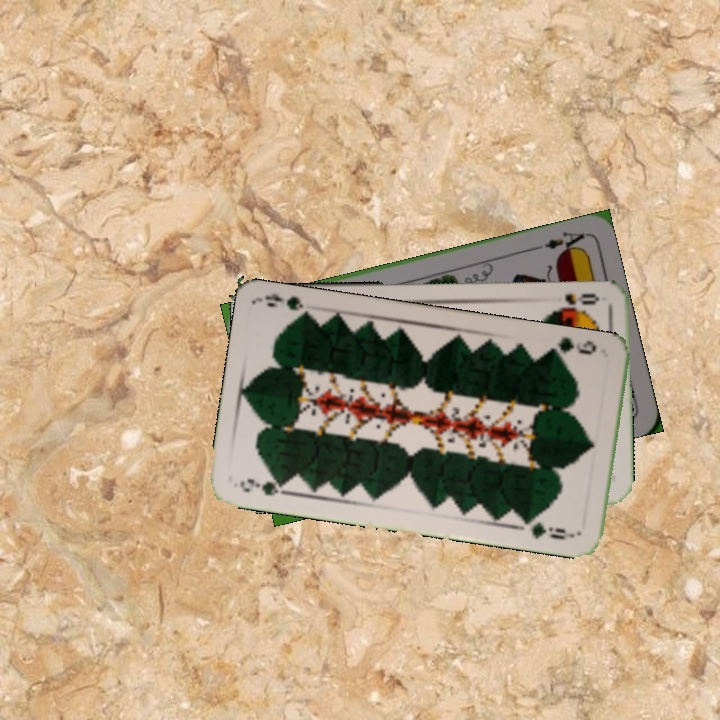EA: (530, 227, 588, 257)
G9: (546, 333, 599, 360), (235, 474, 291, 498)
SO: (547, 289, 602, 313)
